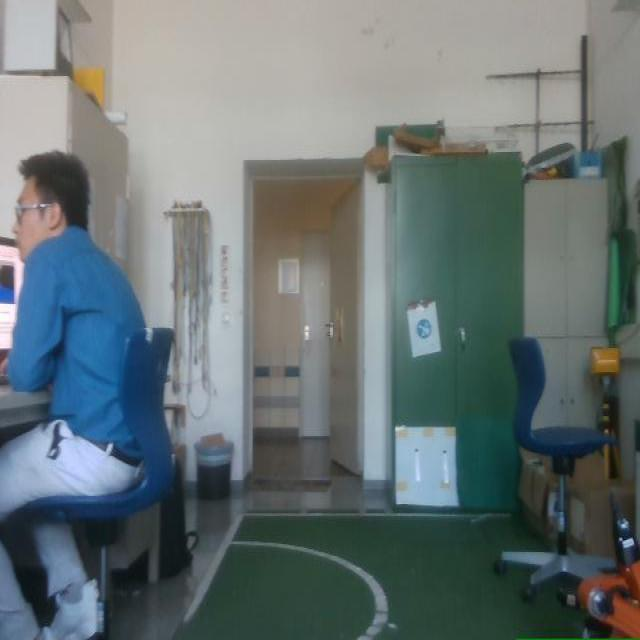humans: (0, 152, 143, 522)
objects: (25, 328, 173, 638), (494, 338, 614, 599), (566, 496, 639, 638), (159, 456, 198, 578), (0, 238, 23, 365)
